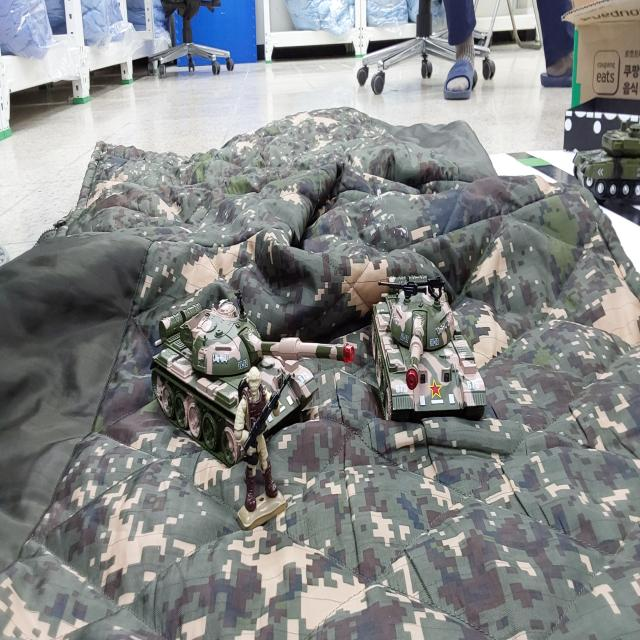ally: (234, 367, 289, 529)
